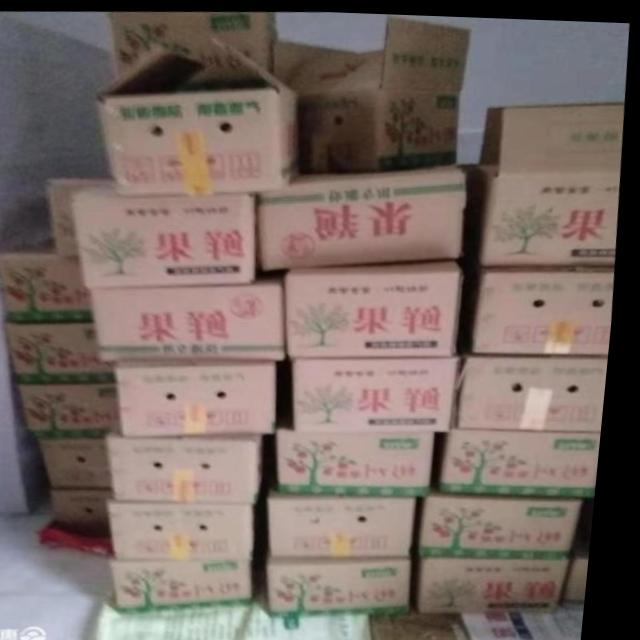box: (273, 12, 472, 171), (265, 162, 466, 268), (109, 87, 302, 195), (74, 184, 261, 288), (293, 256, 468, 353), (96, 276, 288, 360), (465, 259, 618, 352), (471, 167, 620, 260), (110, 9, 273, 94), (302, 354, 464, 430), (124, 361, 281, 434), (465, 352, 615, 427), (429, 487, 589, 554), (481, 98, 625, 171), (451, 425, 609, 491), (283, 426, 442, 491), (0, 223, 101, 323), (118, 434, 274, 498), (279, 487, 424, 553), (280, 552, 421, 614), (122, 500, 263, 560), (427, 554, 581, 607), (123, 555, 263, 613), (10, 321, 125, 382), (28, 383, 131, 438), (52, 180, 117, 253), (45, 435, 123, 487), (61, 488, 122, 532), (573, 548, 600, 599)
